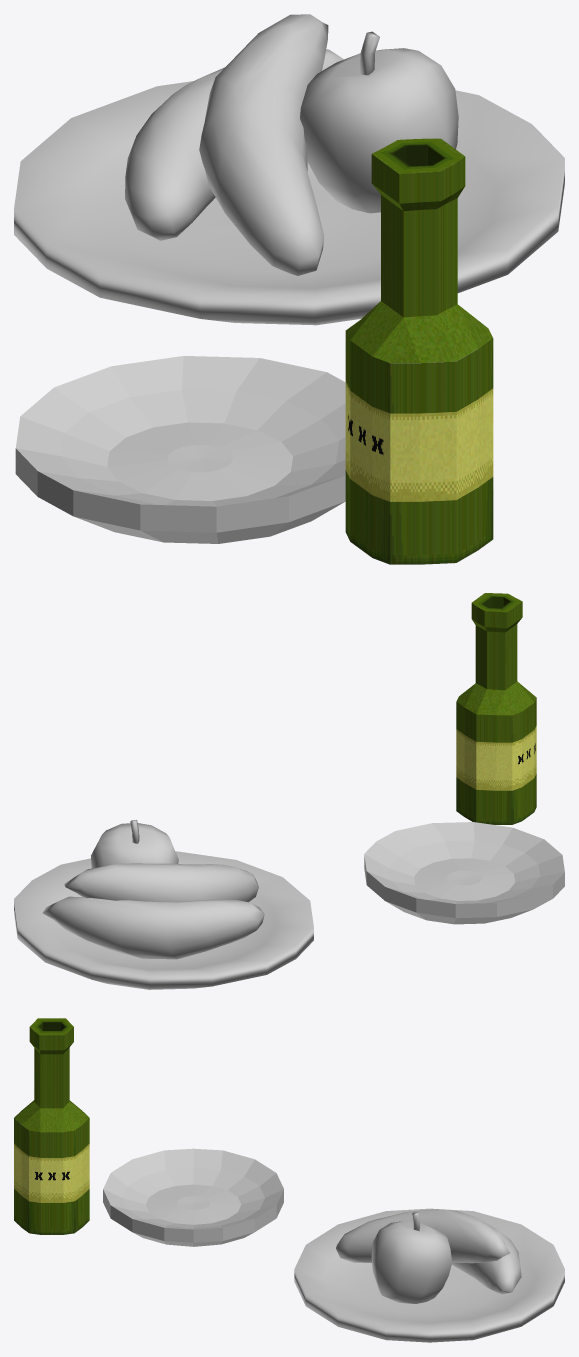
File: Fruit_And_Bottle_Soviet_Mirage.fbx
3 views of the same model, one above another, from view 1: azimuth 30°, elevation 25°; view 2: azimuth 150°, elevation 25°; view 3: azimuth 270°, elevation 25° (orthographic). The views are drawn at different scales.
Visible parts, largest first — view 1: Sphere, Sphere.002, Cube.004, Sphere.003, Cube, Sphere.001; view 2: Sphere.002, Sphere, Cube.004, Sphere.001, Sphere.003, Cube; view 3: Sphere, Sphere.002, Cube.004, Cube, Sphere.003, Sphere.001.
Boxes of the visible parts, x1,y1,x2,y2 form: Sphere: (14, 81, 564, 325); Sphere.002: (15, 356, 345, 543); Cube.004: (345, 138, 493, 564); Sphere.003: (199, 14, 328, 275); Cube: (300, 48, 458, 213); Sphere.001: (125, 49, 343, 240); Sphere.002: (364, 822, 564, 924); Sphere: (14, 851, 313, 989); Cube.004: (456, 593, 536, 824); Sphere.001: (42, 896, 264, 959); Sphere.003: (64, 863, 258, 902); Cube: (91, 823, 178, 868); Sphere: (294, 1208, 564, 1342); Sphere.002: (103, 1148, 283, 1246); Cube.004: (14, 1018, 89, 1234); Cube: (371, 1221, 452, 1303); Sphere.003: (336, 1209, 510, 1263); Sphere.001: (452, 1227, 521, 1294).
Size of the model in its own units: 905 by 522 by 1167.
